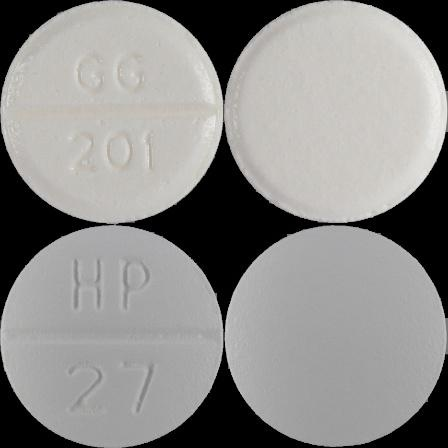50090-0154: (0, 0, 224, 224)
